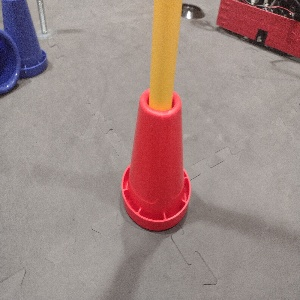Red_1: (120, 84, 192, 231)
